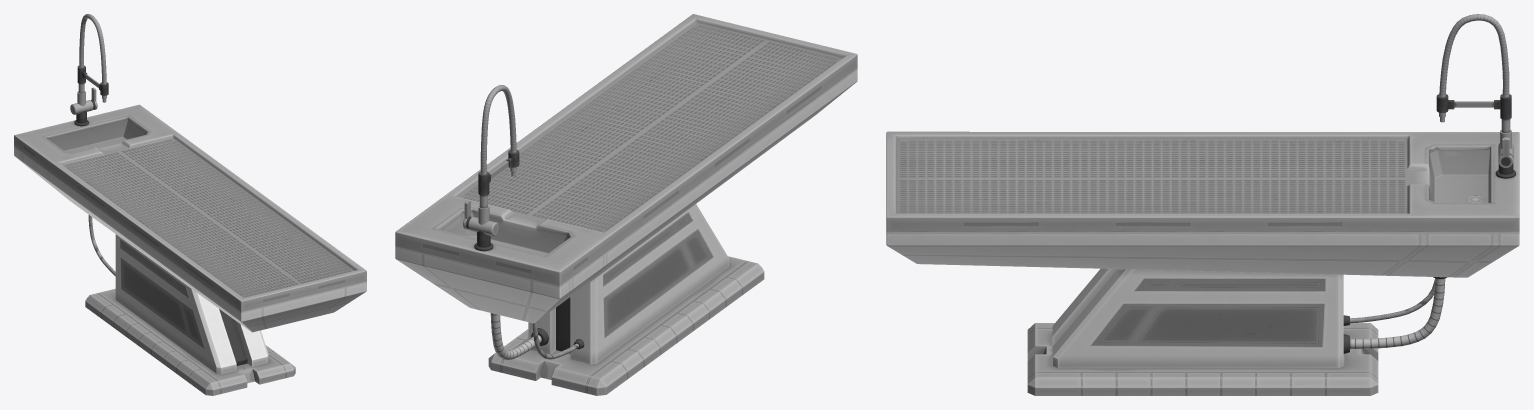
The model's file is MedMorgueTable01.FBX.
3 views of the same model, side by side, from view 1: azimuth 30°, elevation 25°; view 2: azimuth 150°, elevation 25°; view 3: azimuth 270°, elevation 25° (orthographic). The views are drawn at different scales.
Parts seen in each view (by area): view 1: MedMorgueTable01; view 2: MedMorgueTable01; view 3: MedMorgueTable01.
Boxes of the visible parts, x1,y1,x2,y2 form: MedMorgueTable01: (14,14,366,395); MedMorgueTable01: (395,14,857,395); MedMorgueTable01: (886,14,1519,395).
Size of what is drawn, in the model's own units: 0.88 by 1.68 by 2.75.
